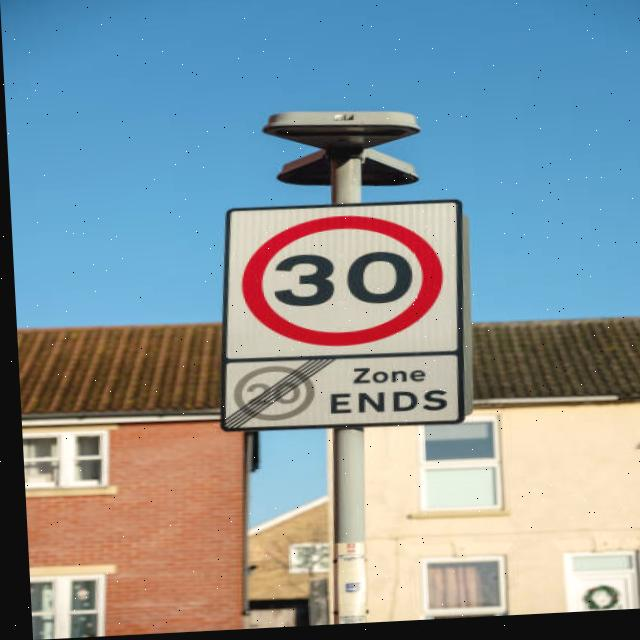Speed limit 30: (233, 212, 446, 357)
